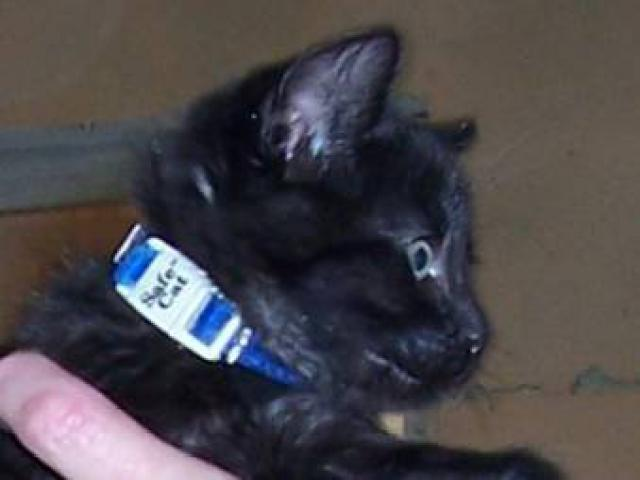cat: (52, 31, 543, 463)
